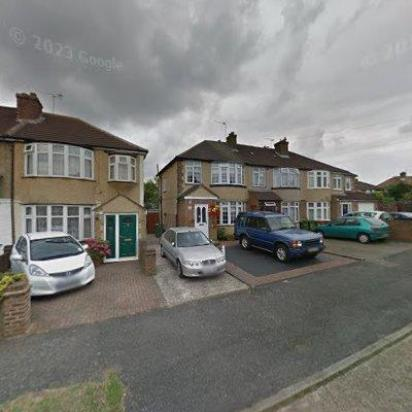stationary-car-offstreet: (11, 230, 96, 300), (234, 209, 326, 261), (158, 224, 228, 280), (311, 213, 391, 244), (340, 210, 395, 224), (382, 210, 412, 222)
